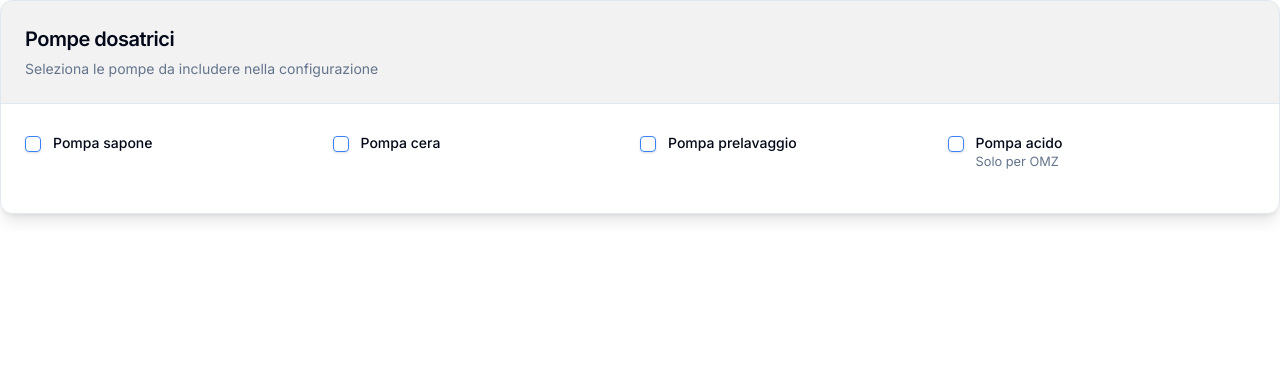
ChemPumpSection › Checkbox toggling › checking chemical pump reveals its fields
This screenshot has width=1280, height=390.
Expected: the text "Numero di pompe di prelavaggio" is not shown
Step 1. Click the checkbox named "Pompa prelavaggio" next to "Pompa prelavaggio" → (648, 144), box [640,136,656,152]
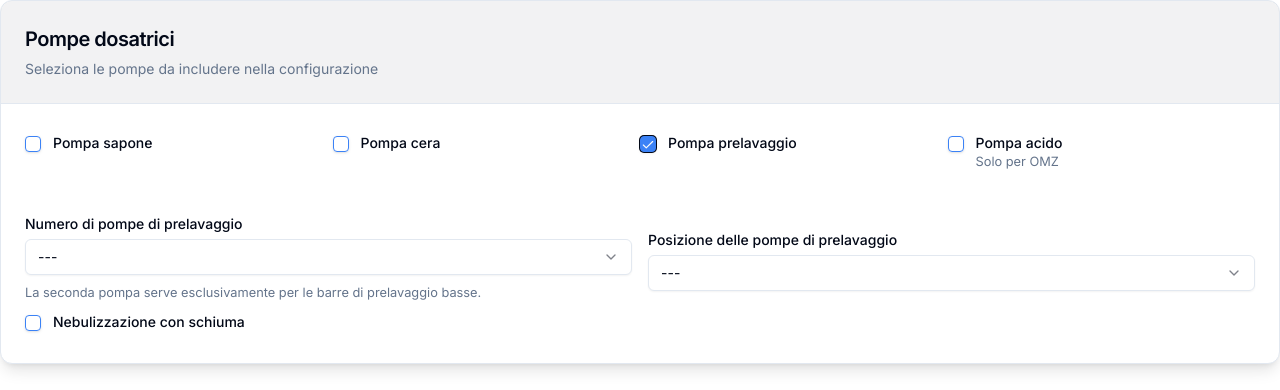
Expected: the text "Numero di pompe di prelavaggio" is shown, [25,215,242,232]
